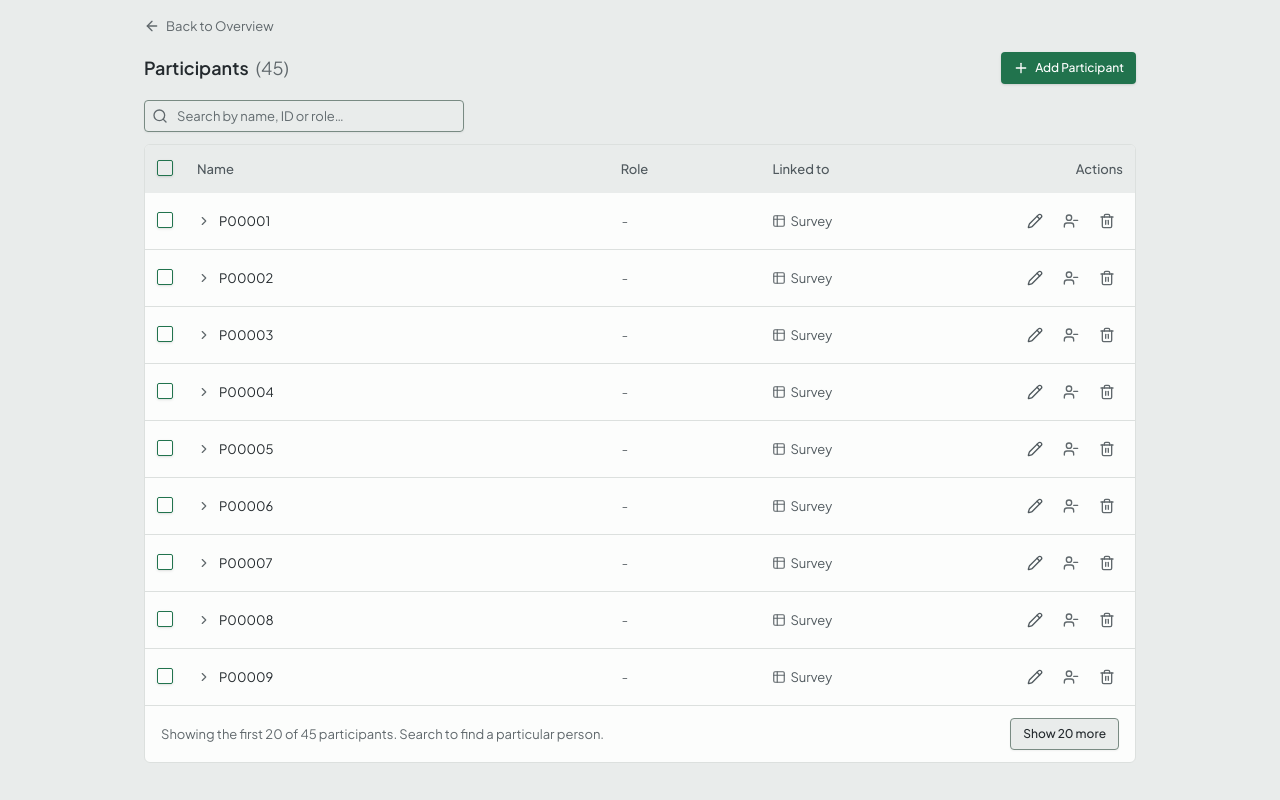
Test case: #1052 — the Participants table is bounded › search finds a participant far outside the first page, and says when nothing matches
The width and height of the screenshot is (1280, 800).
Expected: the text "P00001" is shown, [219, 211, 270, 231]
Type "p00044" into the field named "Search participants by name, ID or role" at (304, 116), box [144, 100, 464, 132]
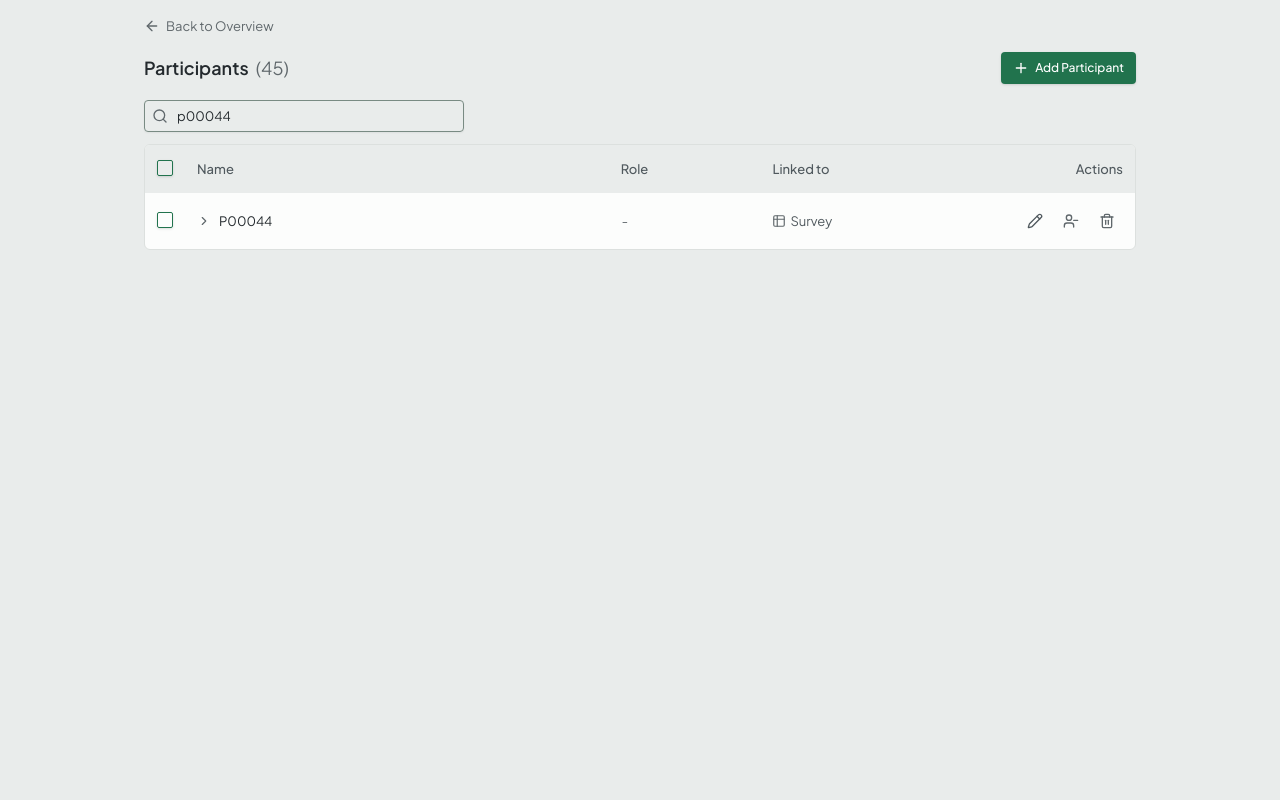
Result: the text "P00044" is shown at [219, 211, 272, 231]
Result: the text "Showing the first" is gone
Replace the text in the field named "Search participants by name, ID or role" with "zzz" at (304, 116), box [144, 100, 464, 132]
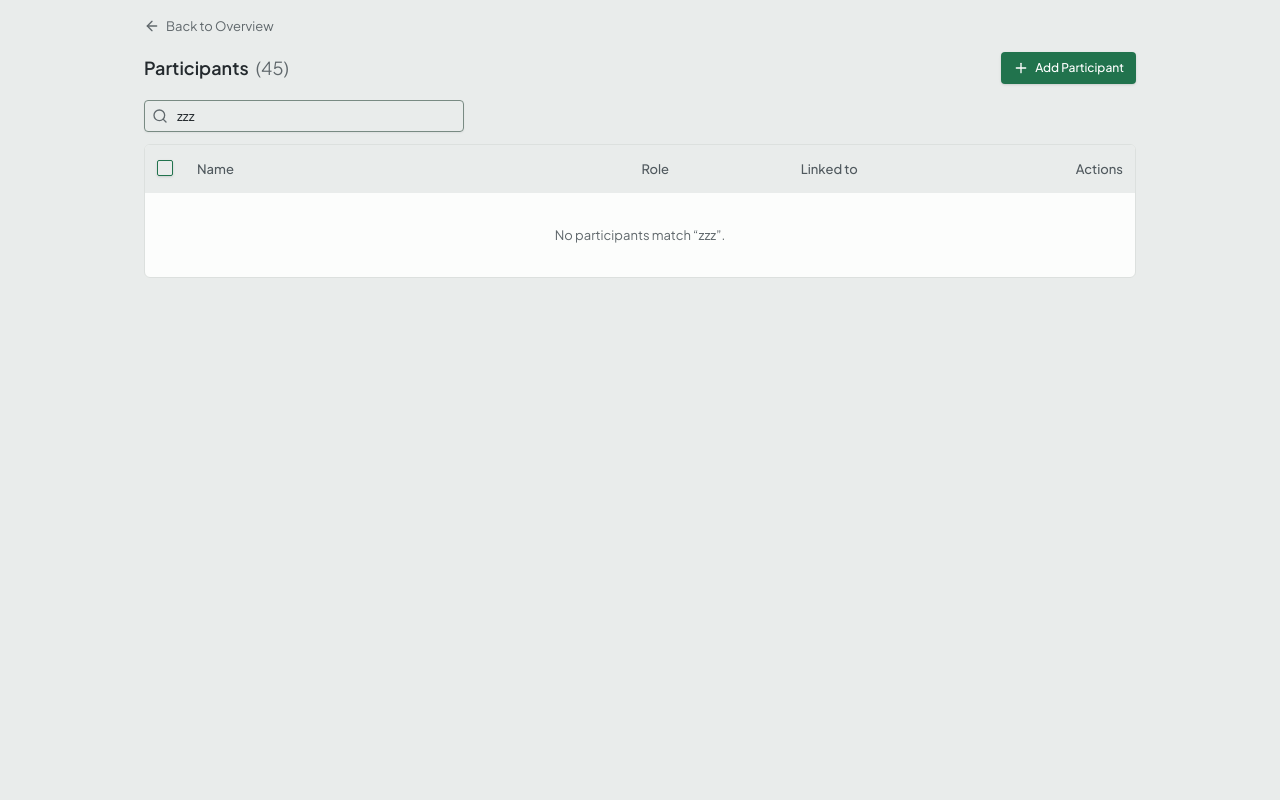
Result: the text "No participants match “zzz”." is shown at [145, 193, 1135, 277]
